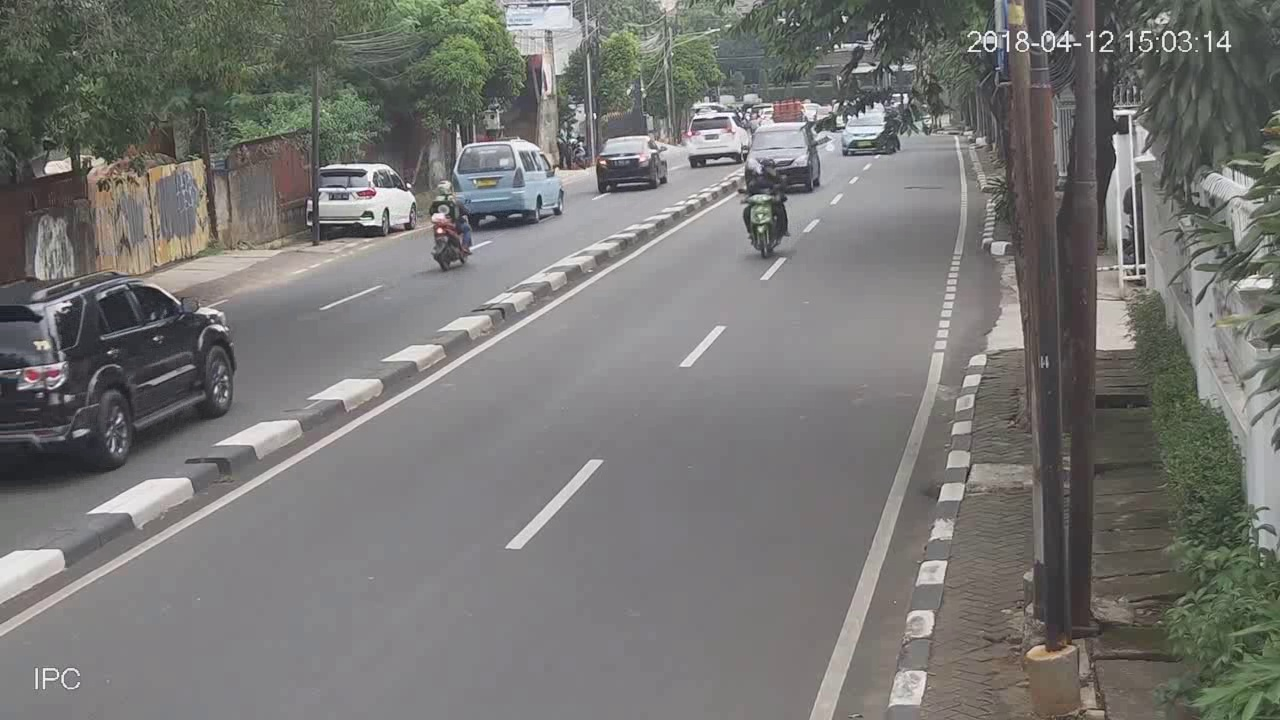car: (1, 267, 238, 474), (448, 141, 564, 226), (303, 159, 418, 240), (592, 134, 671, 190), (684, 109, 744, 168)
motorcycle: (736, 163, 794, 264), (423, 178, 479, 269)
